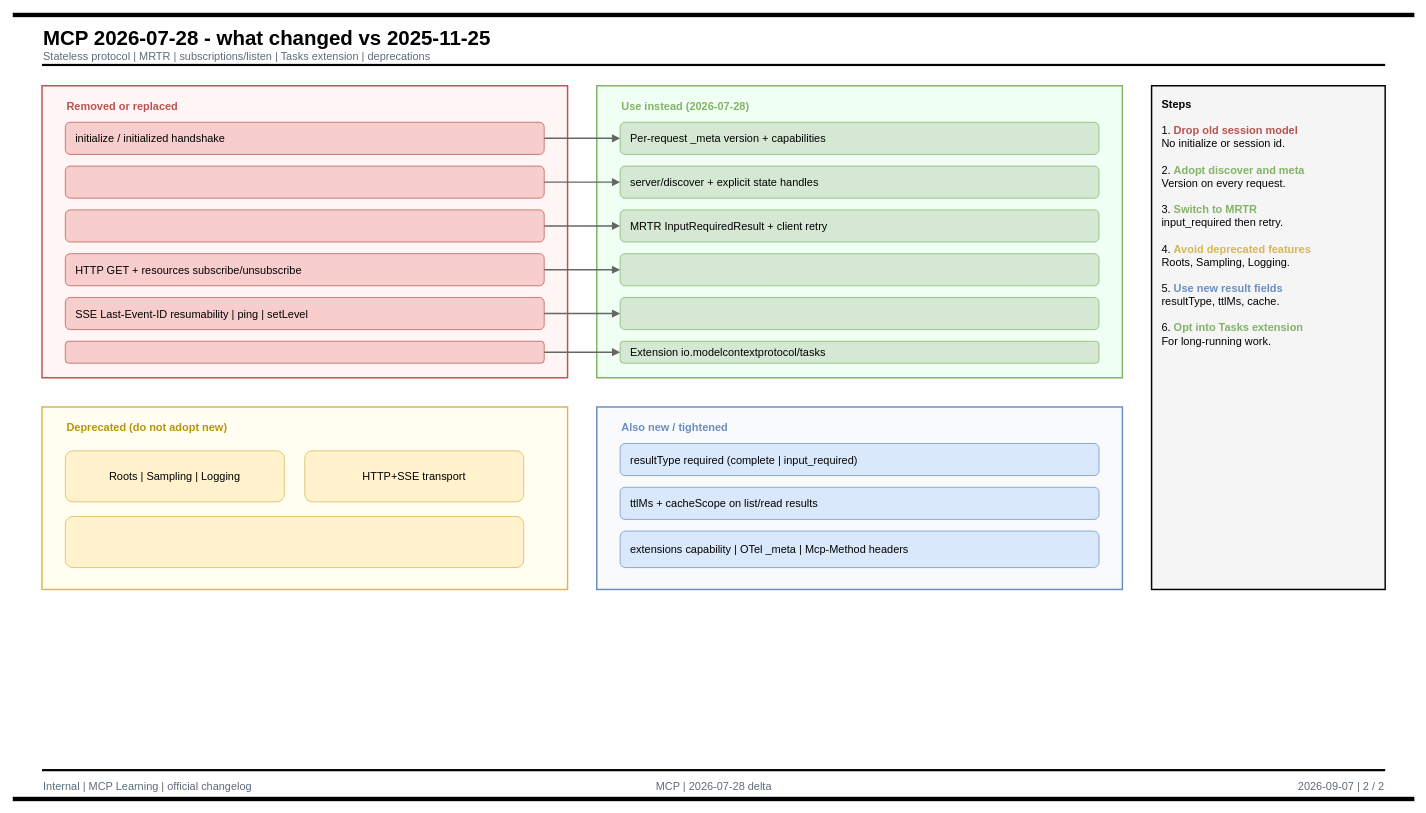
Some shapes in this 1426 by 813 pixel diagram are drawn without their labels. The shapes that lost their labels are listed below. From the top down, each one's centre as x and y in pixels, then its label:
At pixel 304 181: "Mcp-Session-Id protocol sessions".
At pixel 304 225: "Server-initiated requests (old elicitation path)".
At pixel 859 269: "subscriptions/listen change stream".
At pixel 859 313: "Re-issue failed requests | logLevel in _meta".
At pixel 304 352: "Core Tasks (moved out)".
At pixel 294 542: "OAuth DCR → prefer Client ID Metadata Documents".
